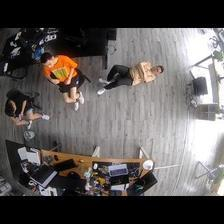fall: (93, 63, 166, 96)
normal: (40, 54, 89, 108), (6, 95, 53, 128)
